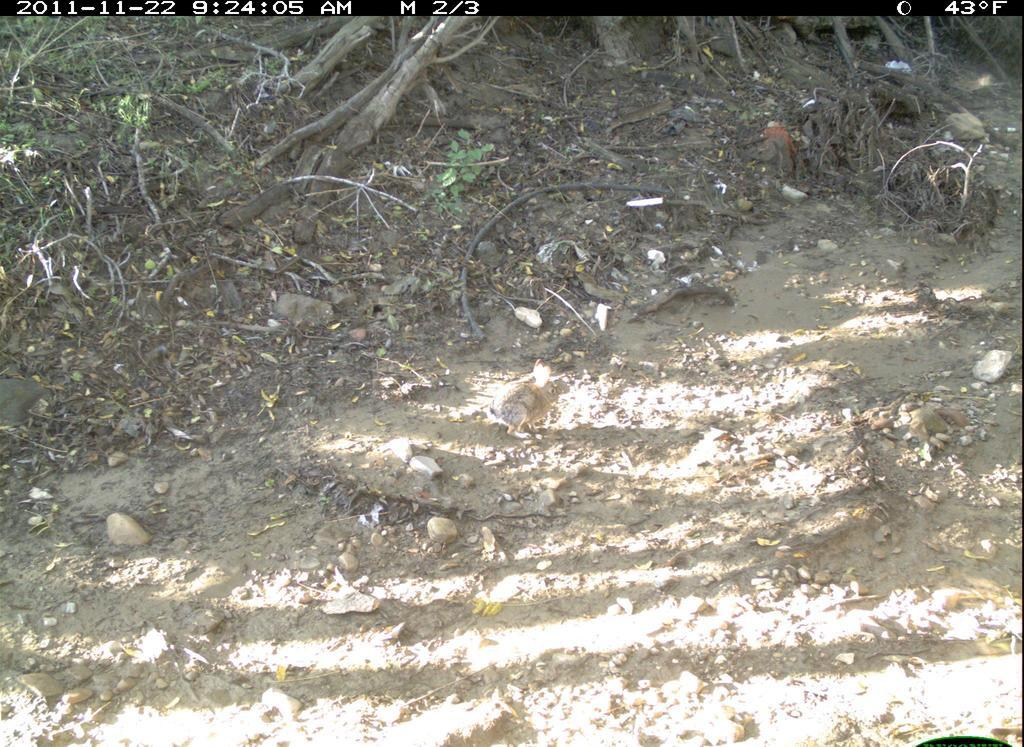rabbit: (475, 346, 575, 455)
